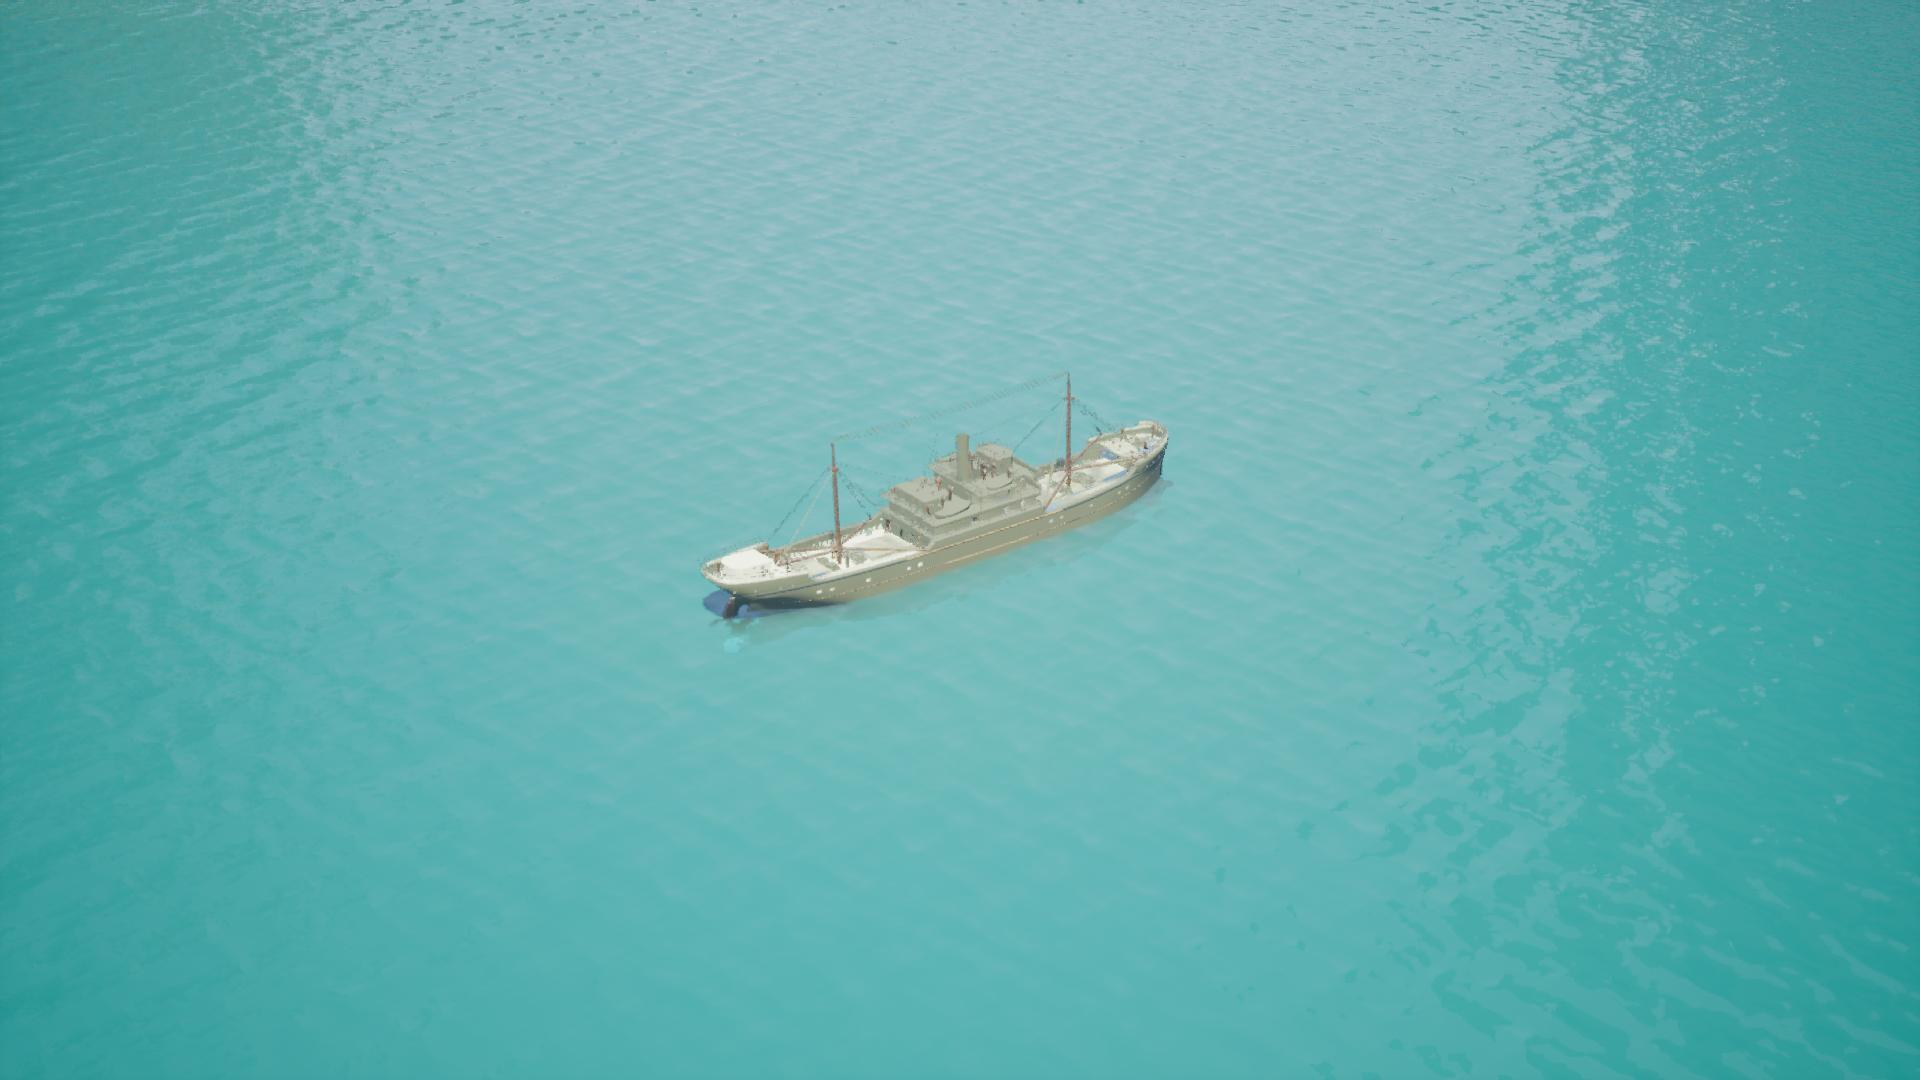Fishing Boat: (702, 398, 1172, 613)
